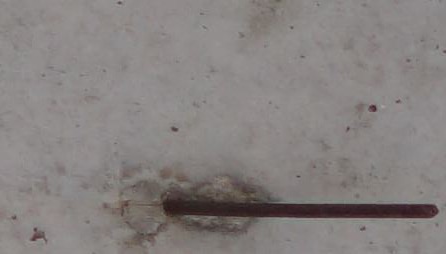Exposed reinforcement: (162, 199, 440, 219)
Spalling: (119, 173, 258, 237)
